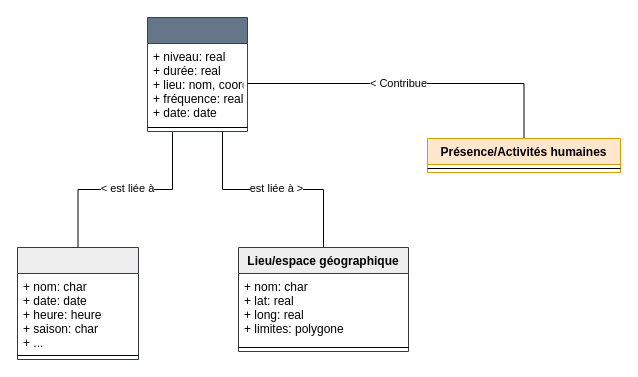
The diagram is 638 pixels wide and 377 high, and some of its shapes have lost their labels. Each missing label, with the box of its shape:
Exposition: (146, 16, 248, 132)
Moment/période: (16, 246, 138, 360)
